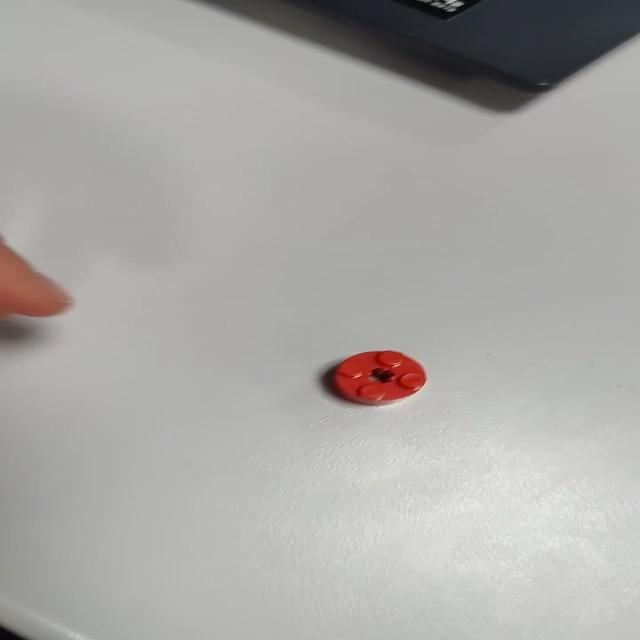S2x2x1: (321, 346, 430, 406)
